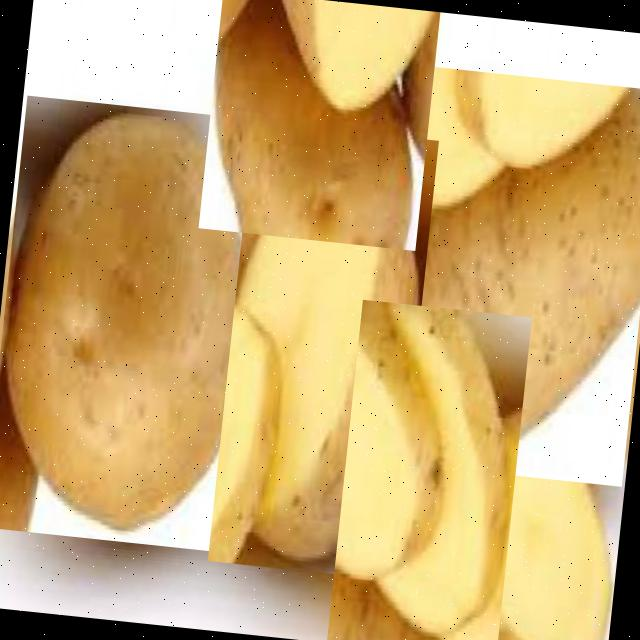Potato: (0, 94, 258, 550), (365, 62, 640, 485), (207, 120, 438, 579), (325, 298, 530, 640), (394, 368, 626, 640), (197, 0, 439, 249)
